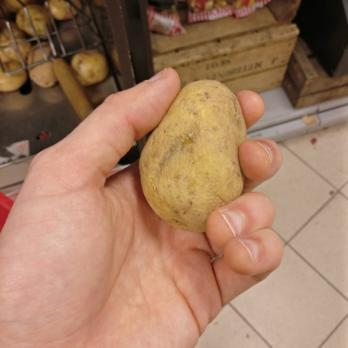Floury potato: (138, 77, 253, 233)
